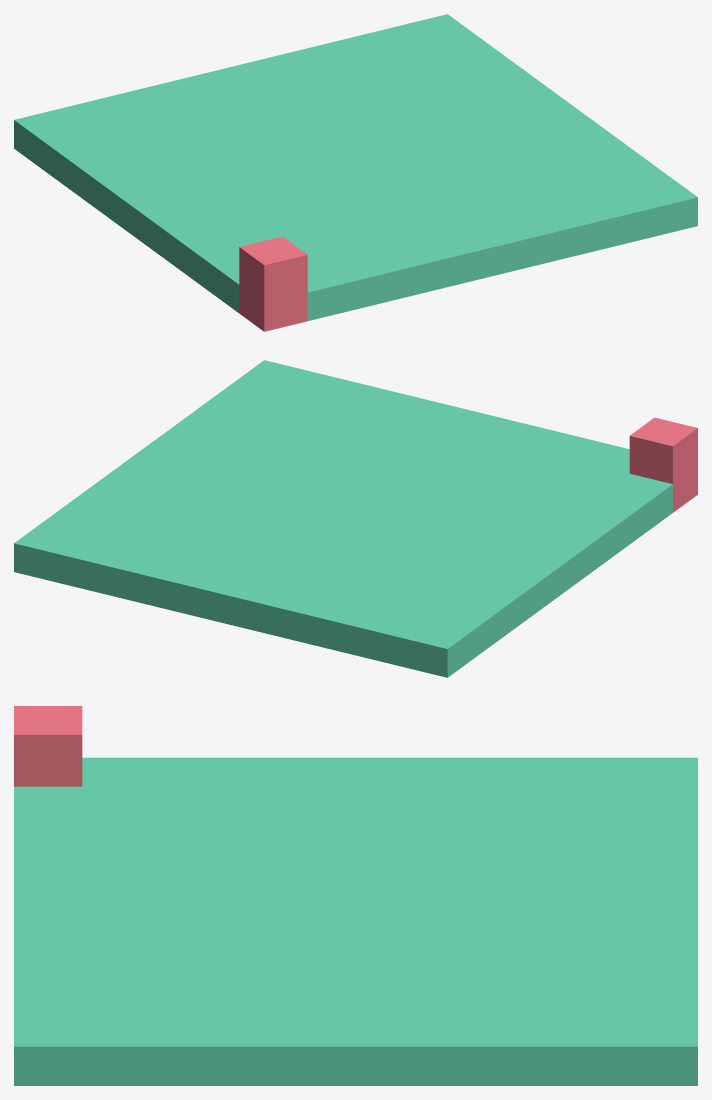
The model's file is innerCorner.glb.
The picture shows the model from 3 angles, top to bottom: view 1: azimuth 30°, elevation 25°; view 2: azimuth 150°, elevation 25°; view 3: azimuth 270°, elevation 25°; orthographic projection. The views are drawn at different scales.
Visible parts, largest first — view 1: innerCorner; view 2: innerCorner; view 3: innerCorner.
Part boxes in pixels (x1,y1,x2,y2): innerCorner: (14,14,697,331); innerCorner: (14,360,697,677); innerCorner: (14,706,697,1085).
Bounding box in the file's own units: 0.9999 × 0.1467 × 0.9999.
